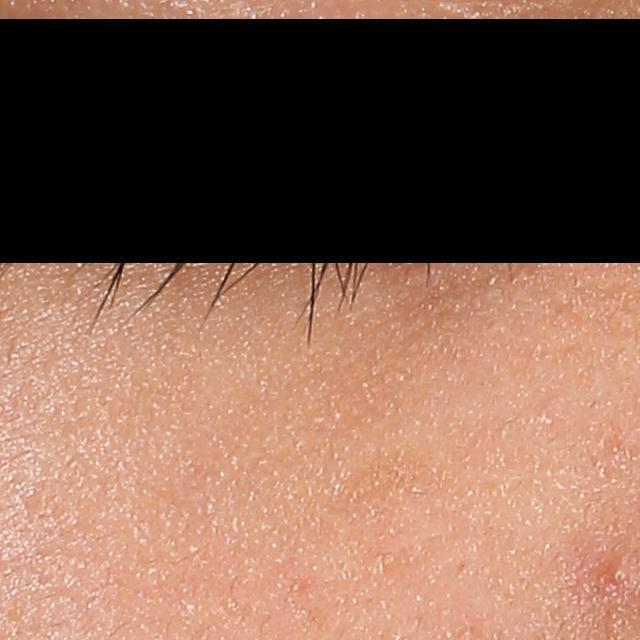papule: (610, 561, 637, 590)
